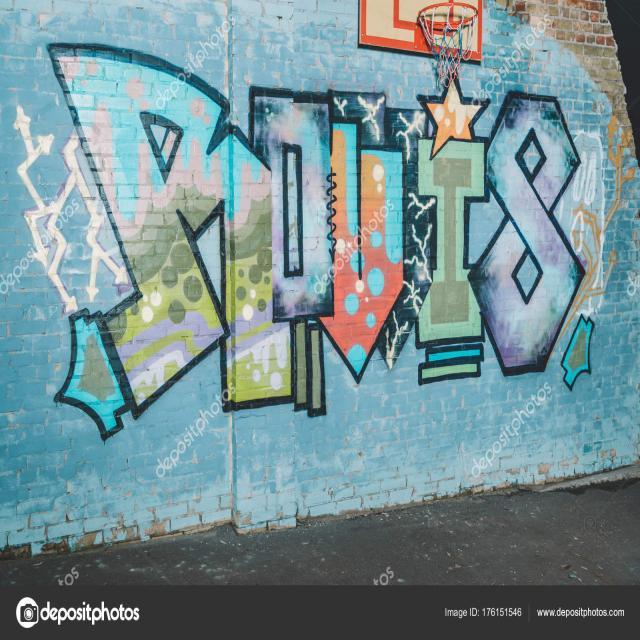-: (51, 37, 602, 440), (9, 100, 131, 312), (572, 111, 635, 399)
